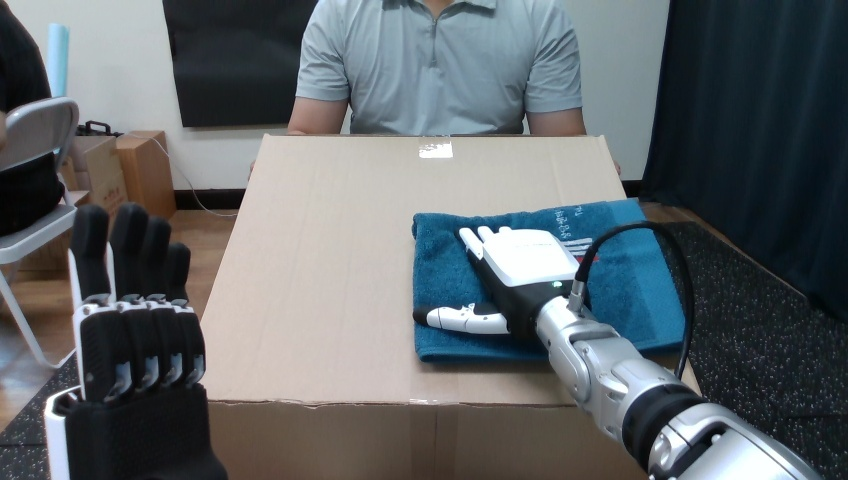left robot hand: (413, 221, 818, 479), (45, 203, 226, 479), (584, 229, 685, 374)
